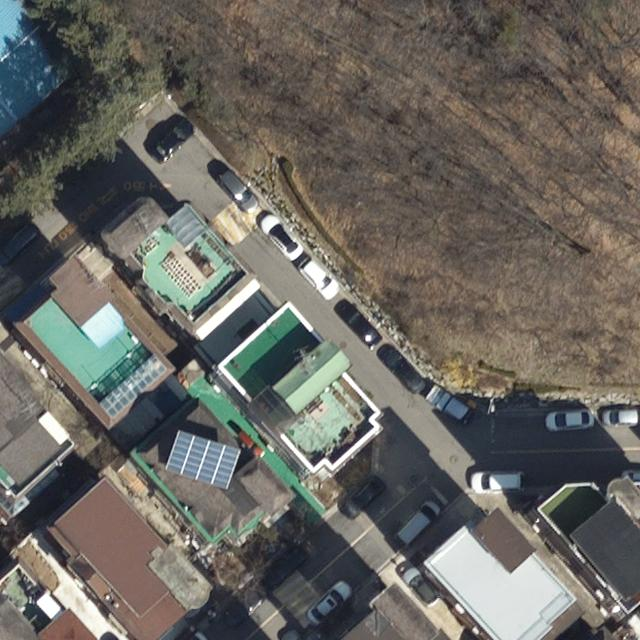solarpanel: (164, 427, 243, 493)
